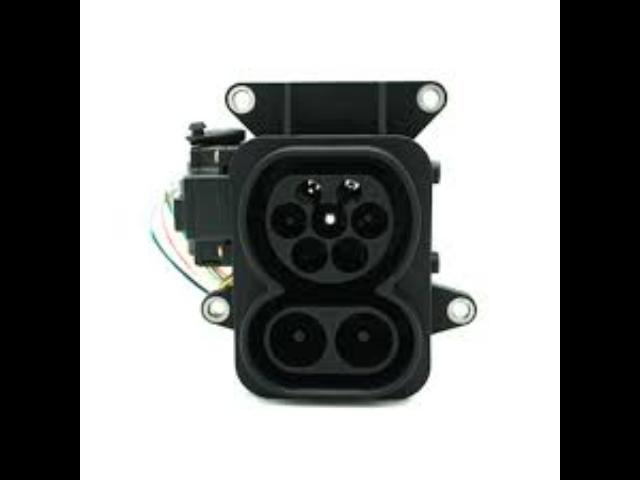inlet: (266, 174, 394, 283)
inlet-above-left: (295, 180, 322, 202)
inlet-above-right: (336, 179, 363, 203)
inlet-below-left: (292, 237, 327, 273)
inlet-below-right: (332, 236, 367, 273)
inlet-circle: (312, 202, 346, 237)
inlet-circle-left: (272, 203, 306, 237)
inlet-circle-right: (352, 202, 388, 238)
inlet-minus: (336, 313, 392, 367)
inlet-plus: (270, 312, 327, 366)
